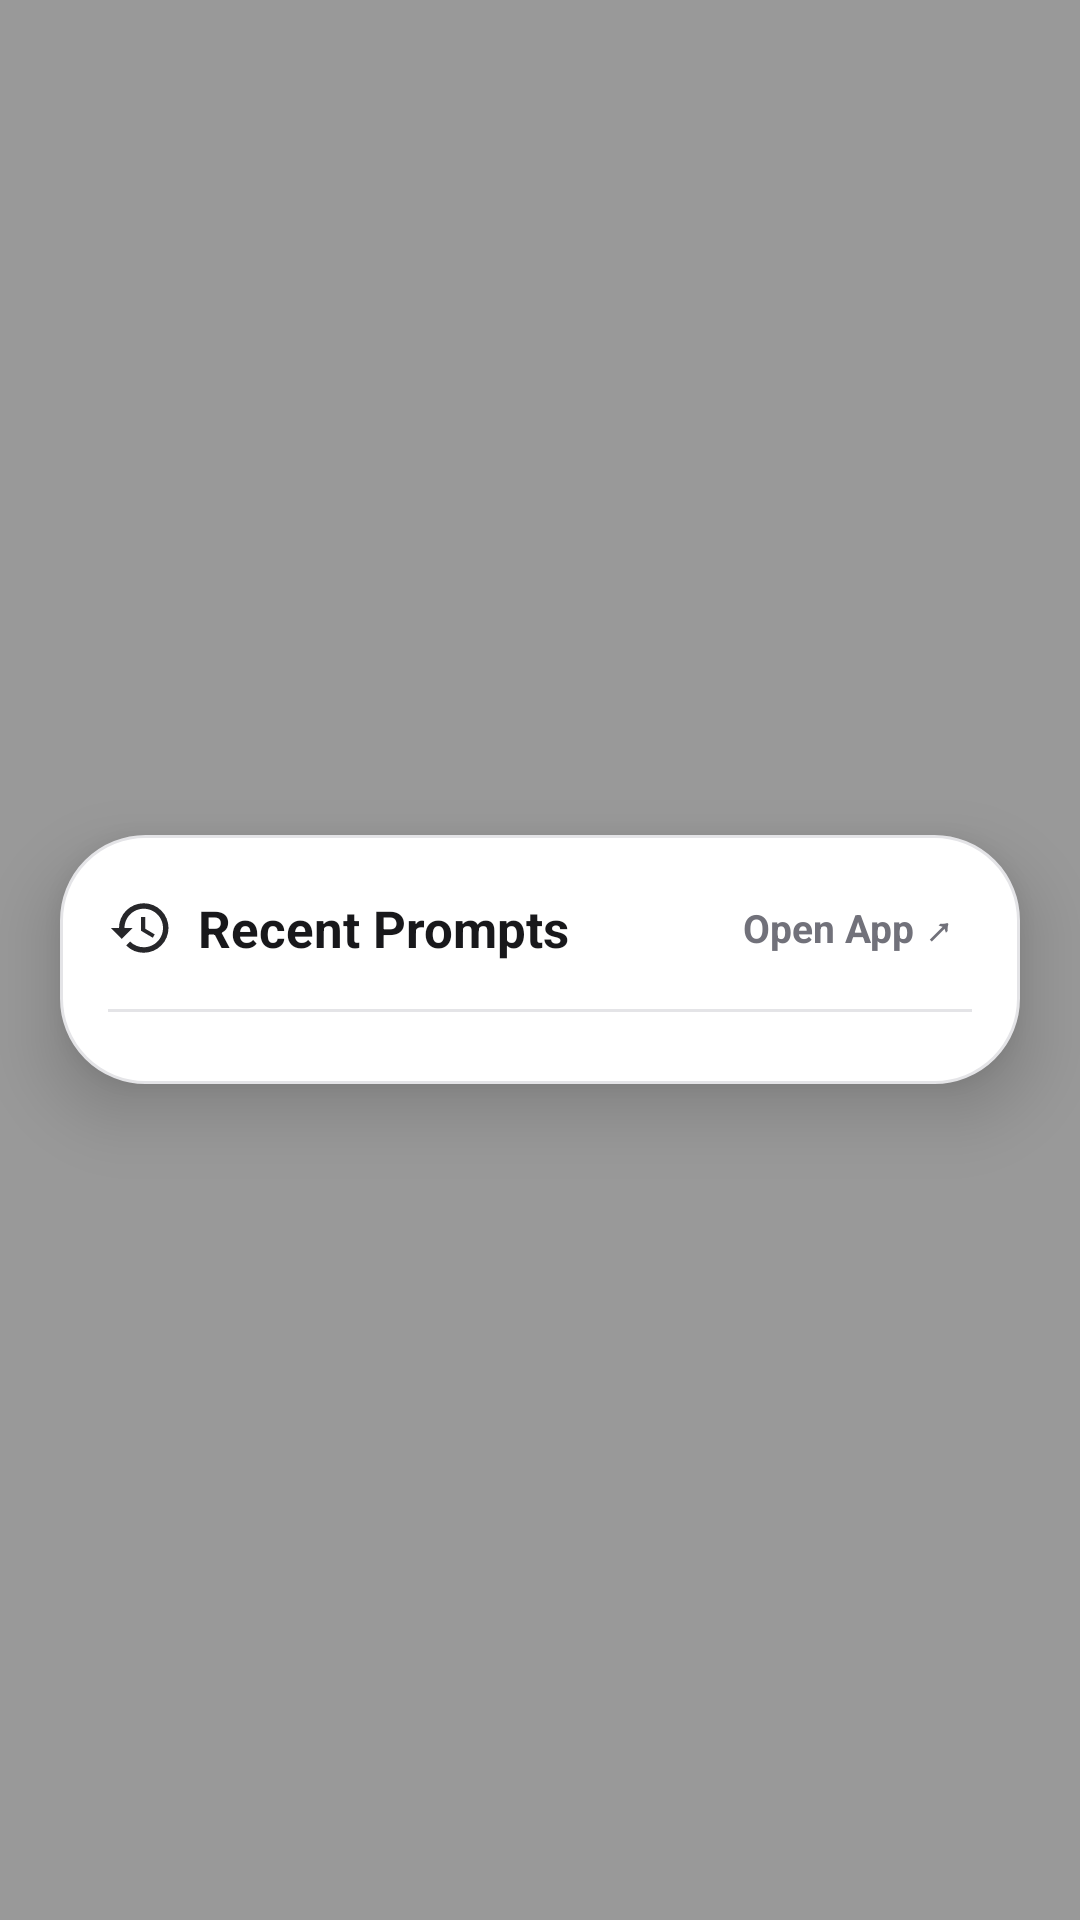

Screen size 1080x1920. Icon name, then its center in pixels as (x=x, y=y):
History: (x=140, y=928)
